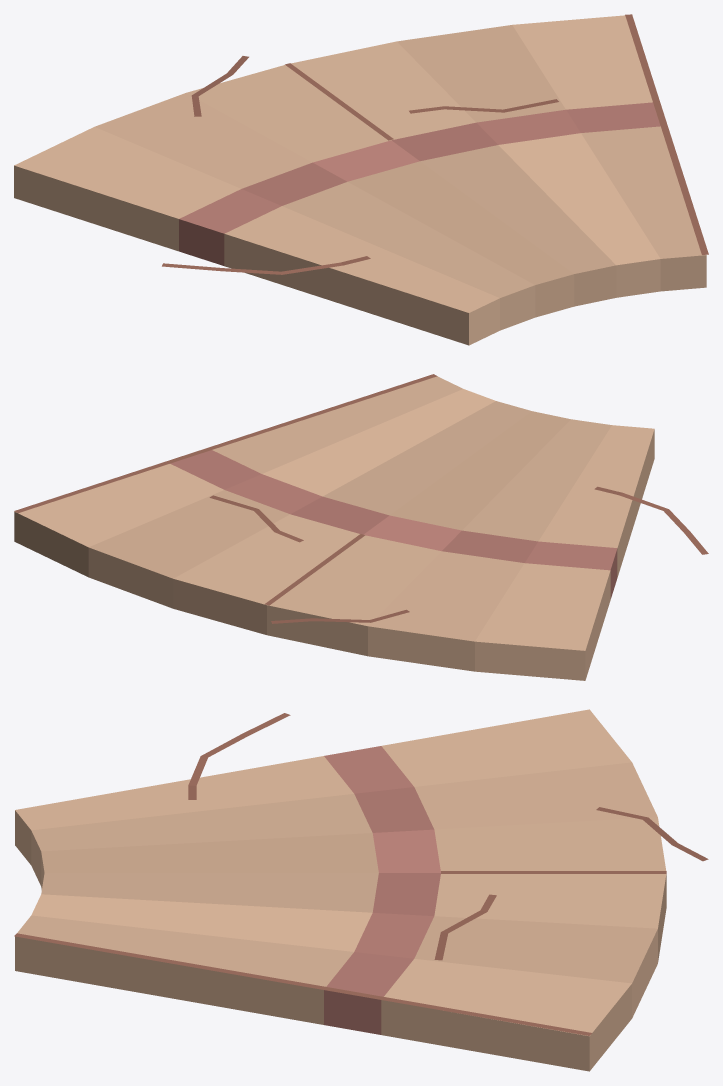
The model's file is Floor_Arena_Segment.fbx.
The picture shows the model from 3 angles, top to bottom: view 1: azimuth 30°, elevation 25°; view 2: azimuth 150°, elevation 25°; view 3: azimuth 270°, elevation 25°; orthographic projection. The views are drawn at different scales.
Parts seen in each view (by area): view 1: Floor_Arena_Segment; view 2: Floor_Arena_Segment; view 3: Floor_Arena_Segment.
Boxes of the visible parts, box(x1,y1,x2,y2) form: Floor_Arena_Segment: box(14, 14, 708, 345); Floor_Arena_Segment: box(14, 374, 708, 680); Floor_Arena_Segment: box(14, 709, 708, 1071).
Size of the model in its own units: 9.95 by 0.506 by 8.94.
